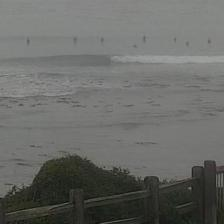surfer: (72, 36, 78, 42), (206, 38, 211, 44), (26, 38, 30, 44), (132, 44, 138, 48), (142, 35, 146, 41), (173, 37, 177, 42), (186, 41, 190, 46), (101, 37, 104, 43)
